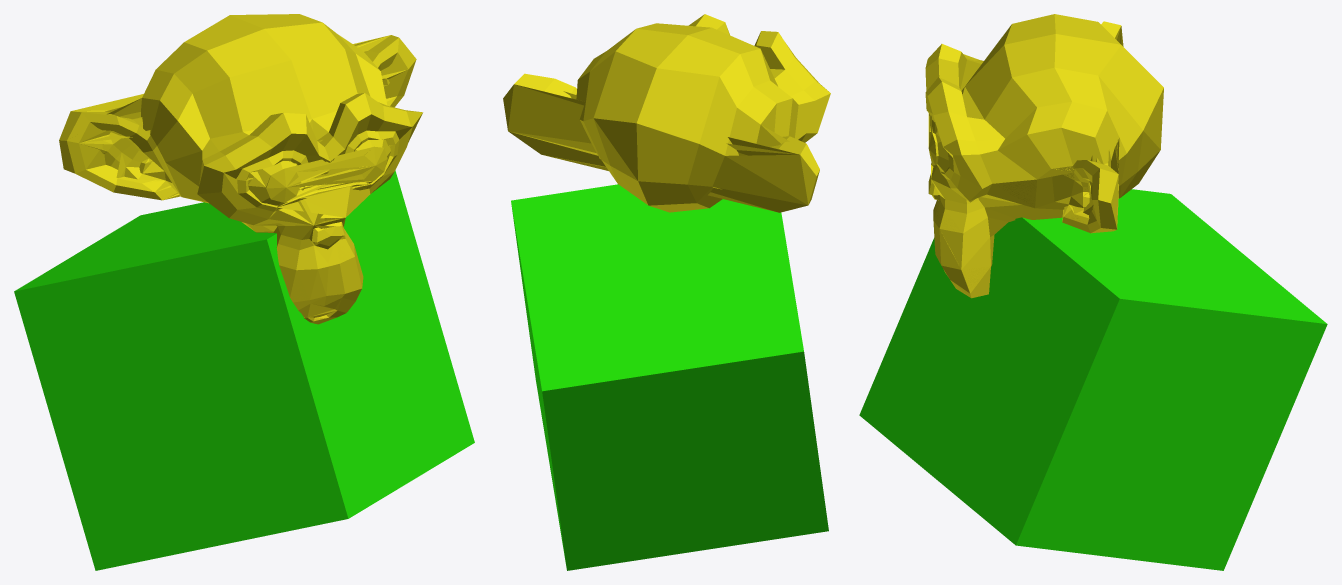
File: cubewithmonkey.glb
3 renders of one model, left to right at view 1: azimuth 30°, elevation 25°; view 2: azimuth 150°, elevation 25°; view 3: azimuth 270°, elevation 25°, orthographic. The views are drawn at different scales.
Visible parts, largest first — view 1: Cube, Suzanne; view 2: Cube, Suzanne; view 3: Cube, Suzanne.
Part boxes in pixels (x1,y1,x2,y2): Cube: [14, 170, 474, 570]; Suzanne: [59, 14, 422, 324]; Cube: [511, 184, 828, 570]; Suzanne: [503, 14, 830, 212]; Cube: [859, 189, 1327, 570]; Suzanne: [925, 14, 1163, 298].
Bounding box in the file's own units: 2.98 × 4.06 × 3.34.
